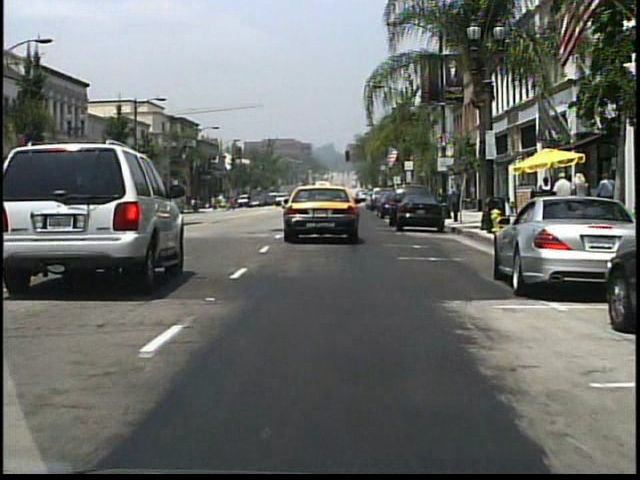person: (593, 170, 616, 226), (568, 171, 590, 225), (552, 171, 573, 225), (535, 175, 554, 223), (246, 193, 254, 208)
